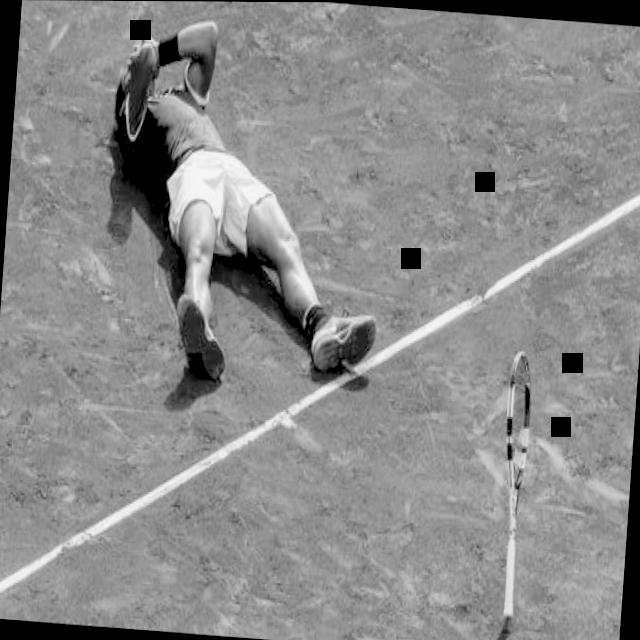Fall-Detected: (79, 6, 413, 397)
